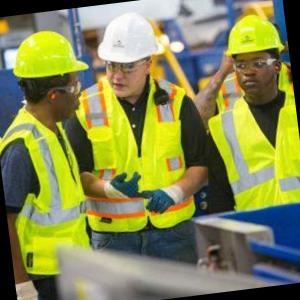Vest: (82, 68, 201, 244), (0, 96, 101, 278), (206, 83, 300, 207)
